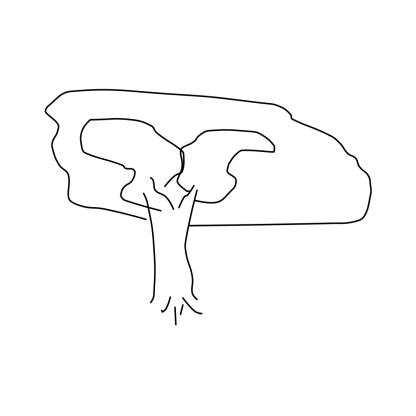branch_line: (139, 176, 203, 221)
crown_mushroom: (45, 89, 372, 226)
root_only: (148, 290, 202, 325)
trunk_straight: (148, 225, 195, 285)
